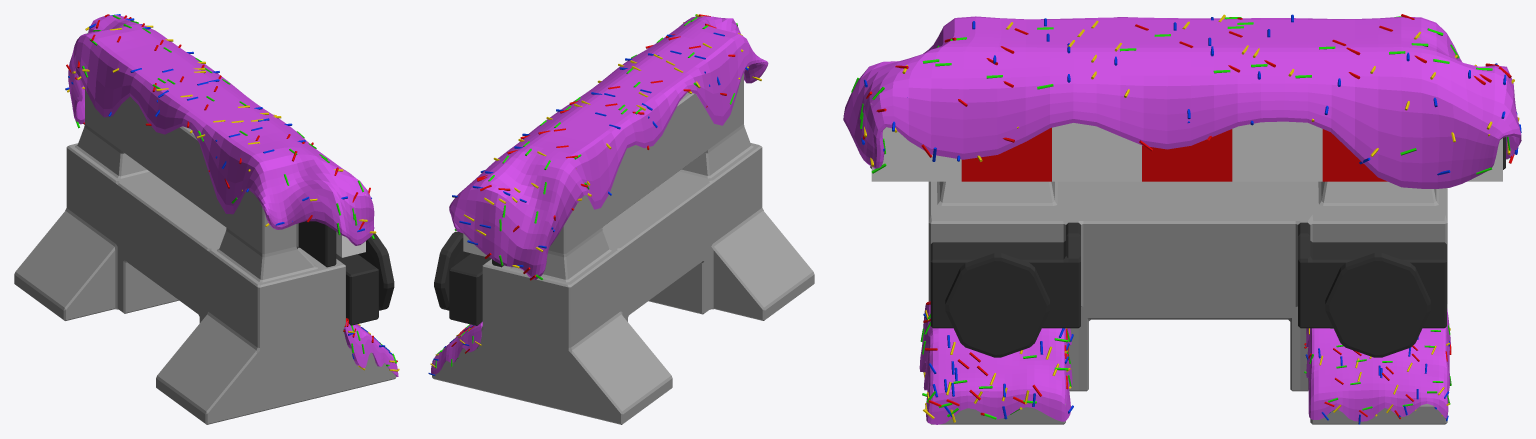
Rendered from bariyer_candy.fbx.
3 views of the same model, side by side, from view 1: azimuth 30°, elevation 25°; view 2: azimuth 150°, elevation 25°; view 3: azimuth 270°, elevation 25° (orthographic). The views are drawn at different scales.
Visible parts, largest first — view 1: Cube, Plane, Cube.005, Cube.004, Cube.003, Cube.002, Cube.006, Cube.001; view 2: Cube, Plane, Cube.005, Cube.004, Cube.003, Cube.007; view 3: Plane, Cube.003, Cube.004, Cube.001, Cube, Cube.006, Cube.007, Cube.005.
Boxes of the visible parts, x1,y1,x2,y2 form: Cube: (14, 143, 395, 424); Plane: (68, 15, 374, 245); Cube.005: (75, 89, 317, 282); Cube.004: (122, 178, 226, 314); Cube.003: (336, 233, 394, 325); Cube.002: (298, 221, 336, 267); Cube.006: (343, 321, 398, 376); Cube.001: (336, 194, 365, 257); Cube: (432, 143, 814, 424); Plane: (449, 16, 768, 279); Cube.005: (510, 73, 753, 282); Cube.004: (602, 178, 705, 314); Cube.003: (434, 231, 491, 325); Cube.007: (431, 321, 482, 374); Plane: (843, 16, 1521, 188); Cube.003: (930, 222, 1446, 357); Cube.004: (1083, 181, 1295, 319); Cube.001: (871, 104, 1502, 181); Cube: (928, 181, 1447, 424); Cube.006: (919, 301, 1072, 424); Cube.007: (1306, 309, 1450, 421); Cube.005: (937, 36, 1439, 205).
Bounding box in the file's own units: 74.73 × 89.23 × 167.
